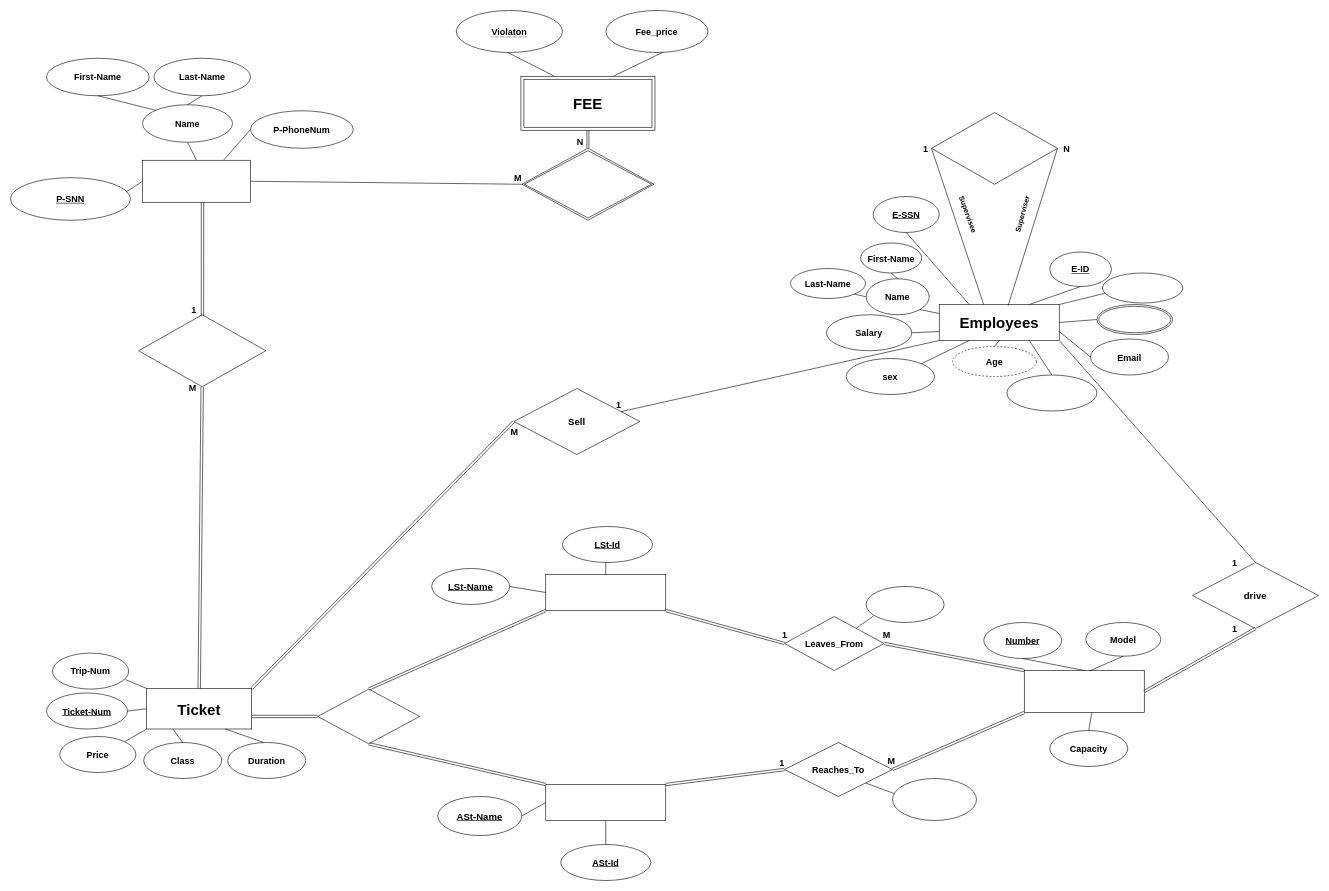
This 1329x891 diagram has some shape labels left out. Here are the shapes that lost their labels. From the top down, the centre of each, then its label:
At pixel 994 148: "Supervision".
At pixel 196 181: "Passenger".
At pixel 587 184: "made a violation".
At pixel 1142 287: "Job-Type".
At pixel 1134 319: "Phone_Num".
At pixel 202 350: "Buy".
At pixel 1051 392: "Date-Of-Birth".
At pixel 605 592: "Leaving_Station".
At pixel 905 604: "Leaving-time".
At pixel 1084 691: "Train".
At pixel 368 716: "Has".
At pixel 605 802: "Arrival_Station".
At pixel 934 799: "Arriving-Time".
